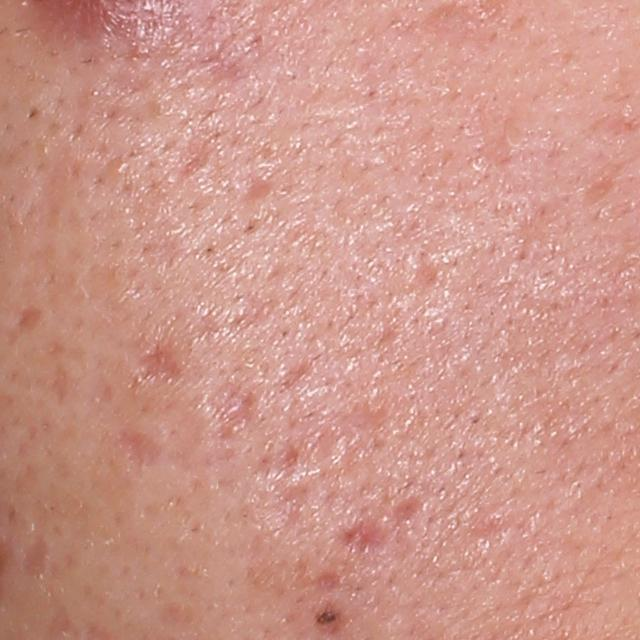atrophic_scar: (270, 429, 344, 484), (203, 376, 256, 443), (337, 511, 399, 555), (128, 340, 183, 388), (16, 528, 56, 584), (115, 431, 167, 473), (232, 173, 276, 210), (3, 305, 43, 343), (390, 489, 427, 524), (413, 244, 441, 289), (282, 359, 315, 394), (305, 571, 343, 591)
nevus: (311, 603, 340, 630)
